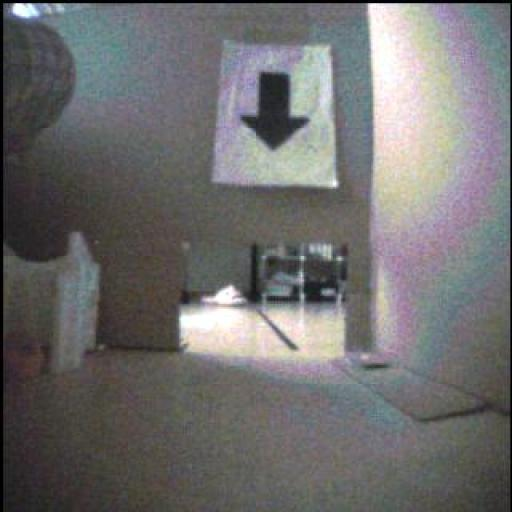arrow: (243, 73, 310, 151)
